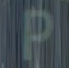Parking: (8, 3, 60, 60)
